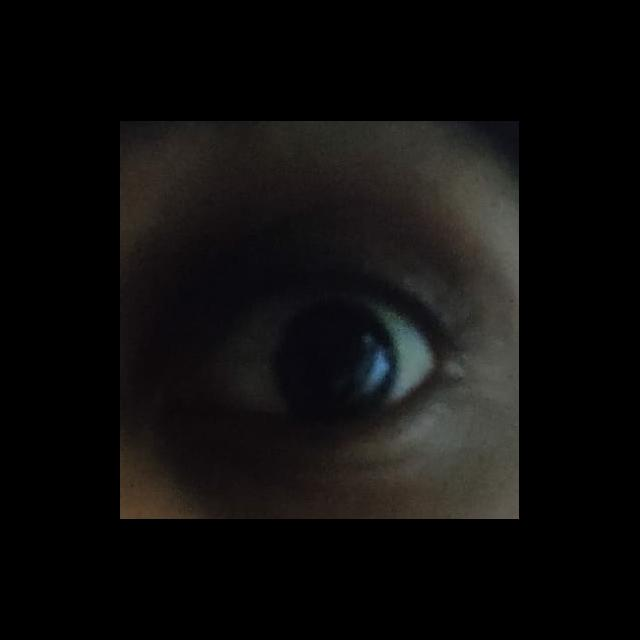eye: (212, 290, 434, 422)
iris: (272, 301, 399, 417)
